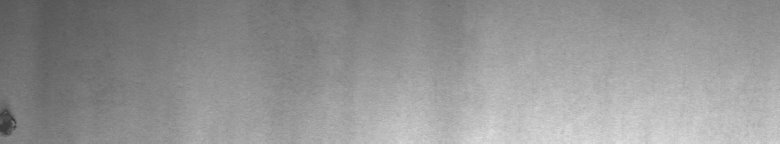fi: (4, 101, 21, 136)
